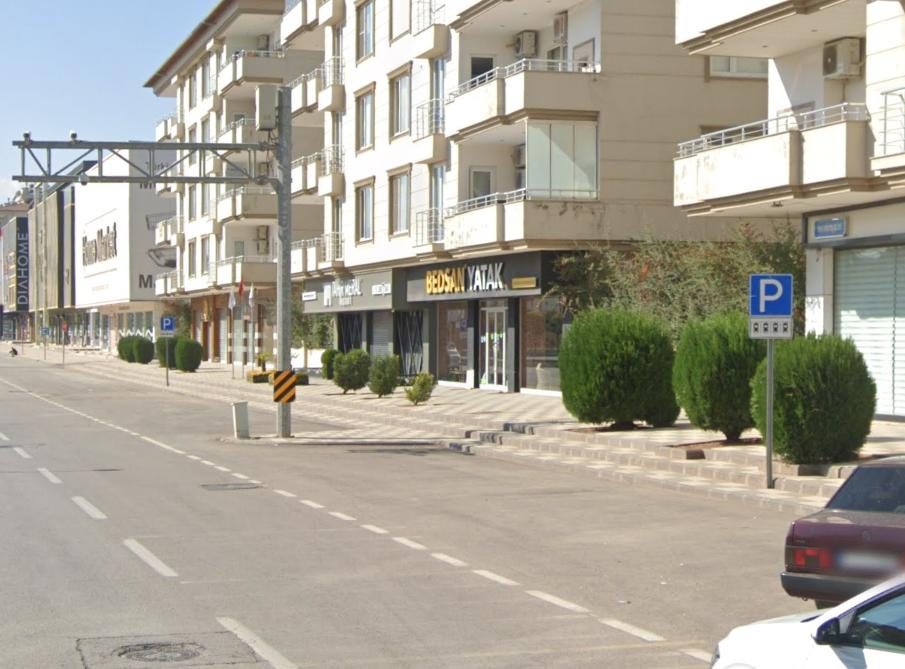park: (751, 274, 792, 315), (161, 316, 174, 330)
